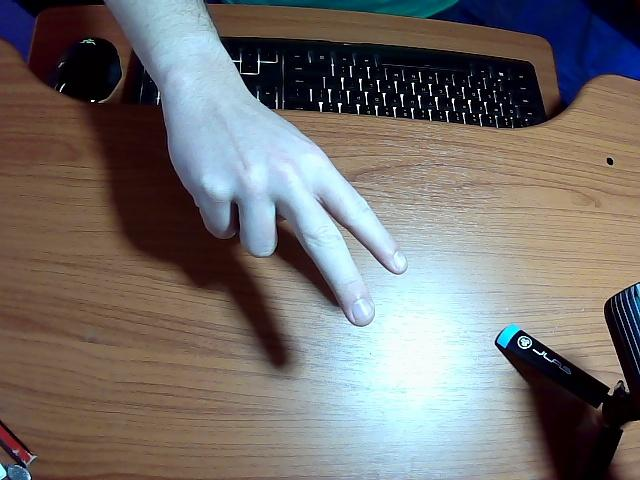scissors: (107, 0, 408, 326)
